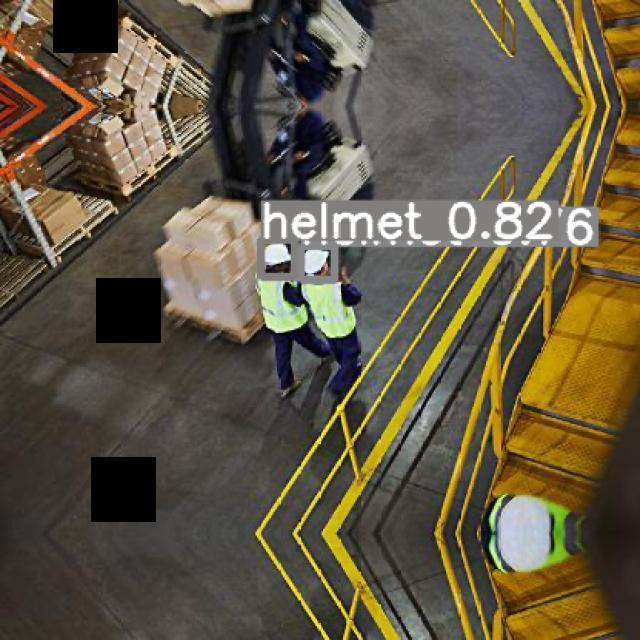helmet: (263, 243, 291, 266)
